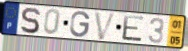0: (42, 8, 62, 37)
3: (148, 17, 165, 44)
E: (121, 14, 146, 44)
G: (69, 10, 92, 39)
S: (19, 6, 41, 35)
V: (94, 11, 118, 41)
